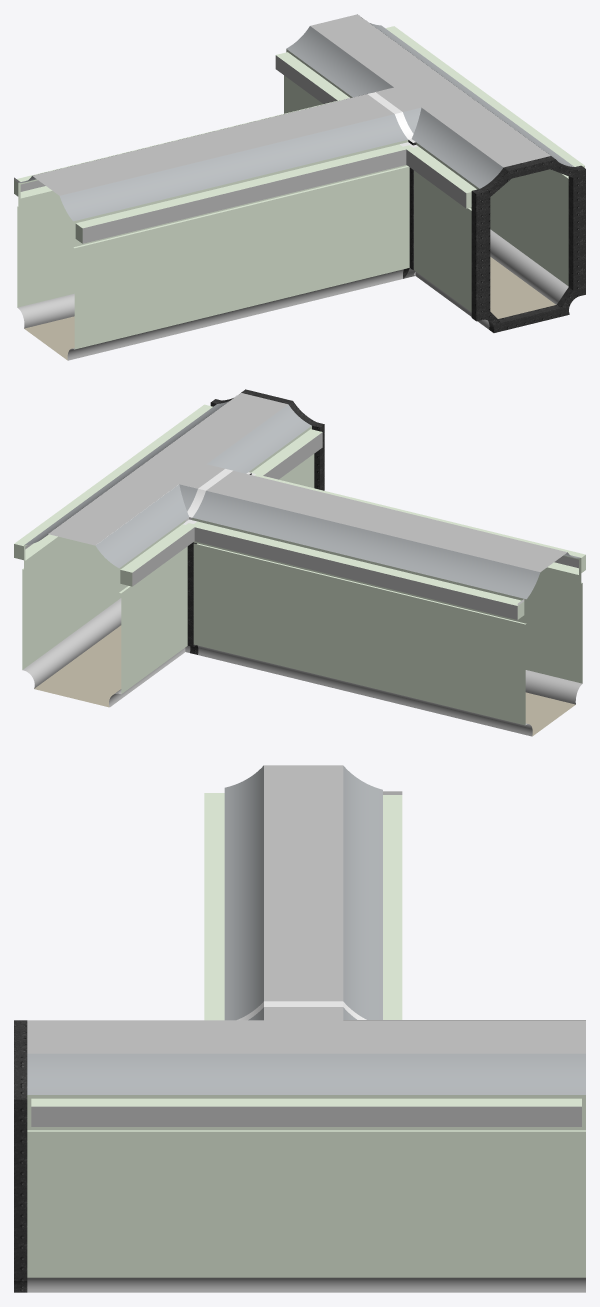
The model's file is 3 pasillos.fbx.
3 views of the same model, one above another, from view 1: azimuth 30°, elevation 25°; view 2: azimuth 150°, elevation 25°; view 3: azimuth 270°, elevation 25° (orthographic). The views are drawn at different scales.
Parts seen in each view (by area): view 1: Model; view 2: Model; view 3: Model.
Part boxes in pixels (x1,y1,x2,y2): Model: (14, 14, 585, 360); Model: (14, 389, 585, 736); Model: (14, 765, 585, 1292).
Bounding box in the file's own units: 7.72 × 2.63 × 5.95.
